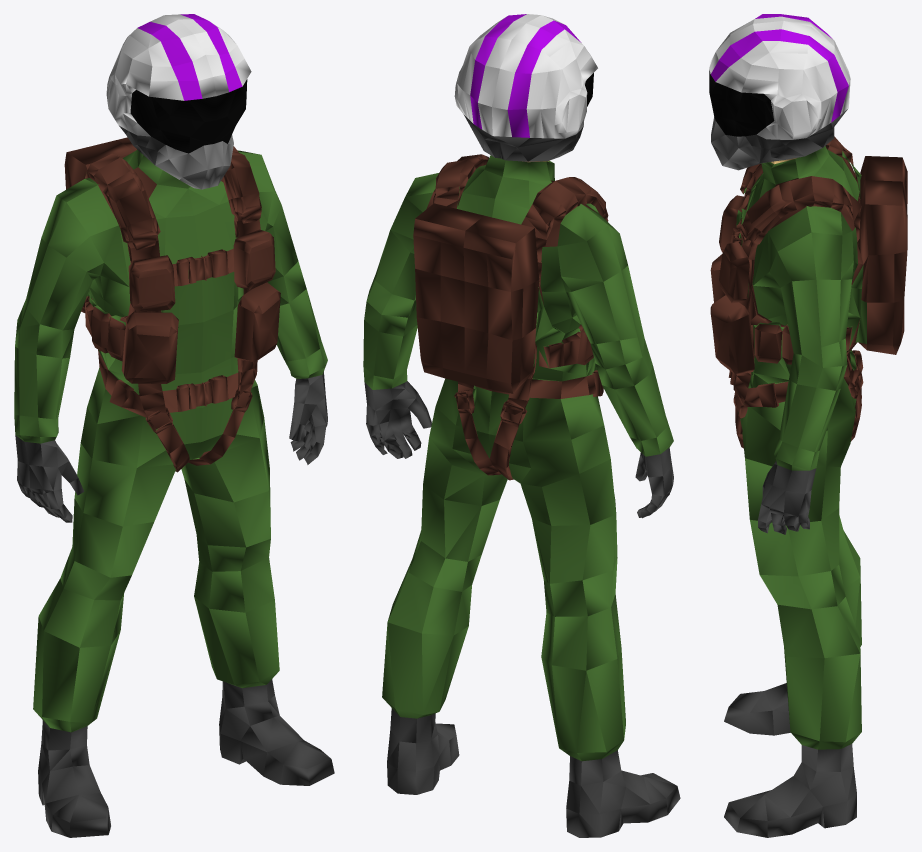
The model's file is pilot 2.glb.
The picture shows the model from 3 angles, left to right: view 1: azimuth 30°, elevation 25°; view 2: azimuth 150°, elevation 25°; view 3: azimuth 270°, elevation 25°; orthographic projection. The views are drawn at different scales.
Parts seen in each view (by area): view 1: PilotMesh.001, PilotMesh.002; view 2: PilotMesh.001; view 3: PilotMesh.001.
Boxes of the visible parts, bbox=[...] form: PilotMesh.001: bbox=[14, 14, 334, 837]; PilotMesh.002: bbox=[172, 248, 233, 286]; PilotMesh.001: bbox=[363, 14, 680, 837]; PilotMesh.001: bbox=[709, 14, 907, 837].
Size of the model in its own units: 0.7731 by 1.85 by 0.4436.
